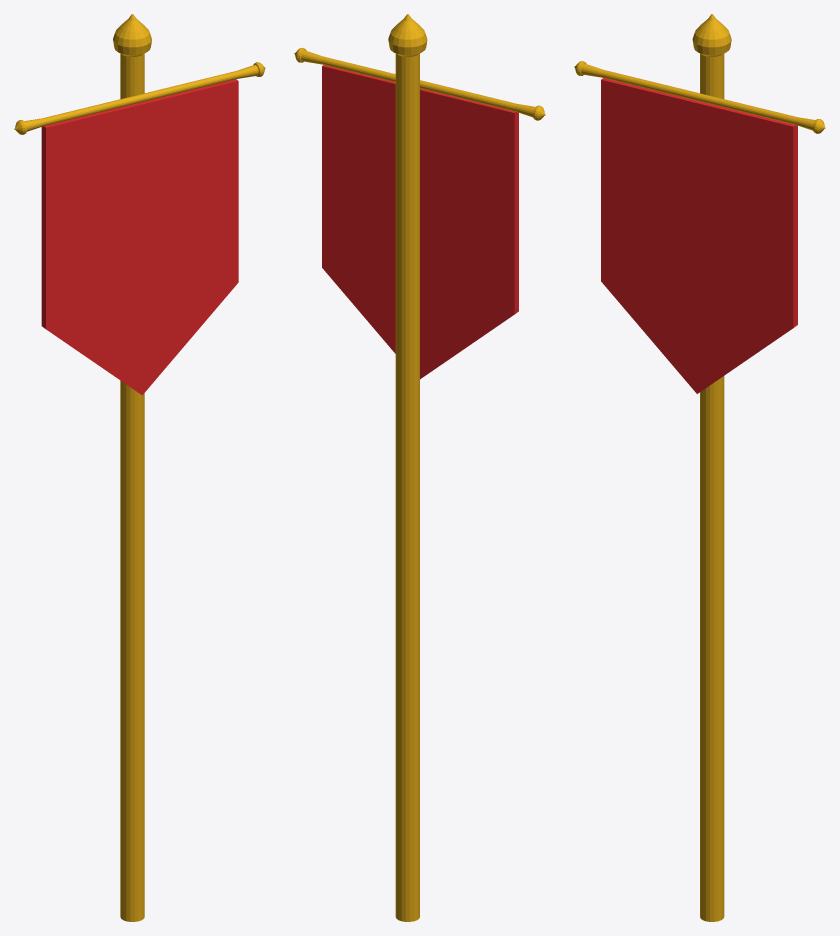
File: flag.fbx
3 renders of one model, left to right at view 1: azimuth 30°, elevation 25°; view 2: azimuth 150°, elevation 25°; view 3: azimuth 330°, elevation 25°, orthographic.
Parts seen in each view (by area): view 1: Cylinder.001; view 2: Cylinder.001; view 3: Cylinder.001.
Part boxes in pixels (box(x1,y1,x2,y2)): Cylinder.001: box(14, 14, 265, 921); Cylinder.001: box(294, 14, 545, 921); Cylinder.001: box(574, 14, 825, 921).
Bounding box in the file's own units: 335 × 1150 × 54.24.
